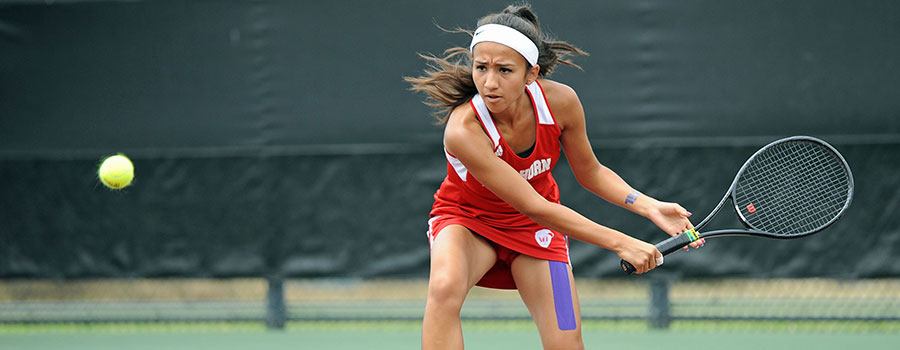tennis ball: (93, 151, 140, 194)
tennis player: (408, 7, 593, 350)
